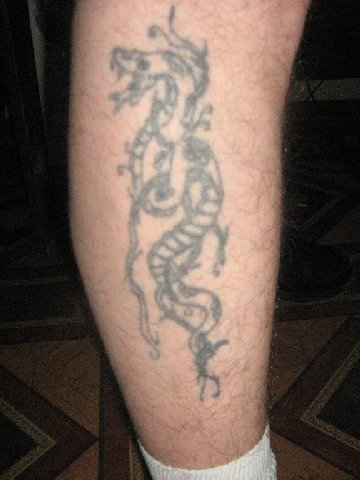tatu6_drakon: (89, 1, 266, 410)
